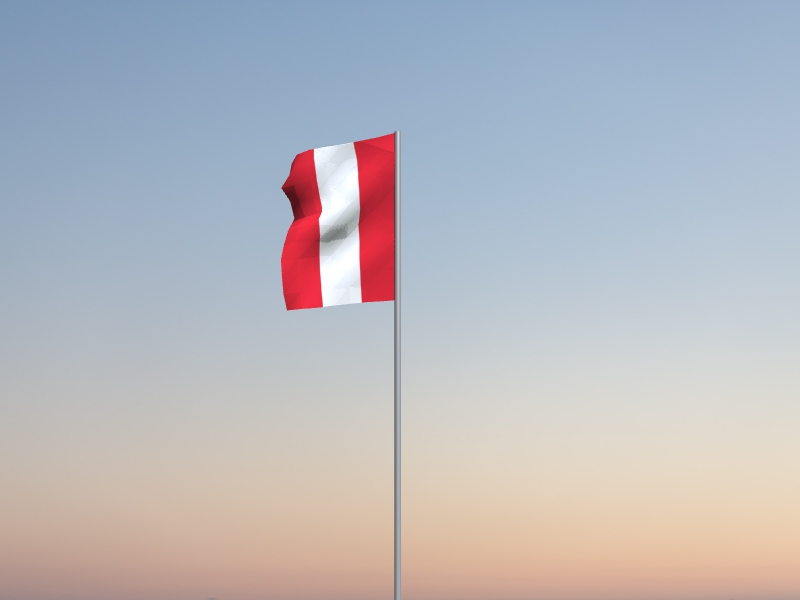at: (280, 133, 396, 313)
